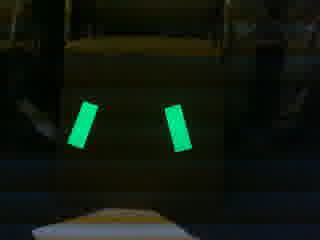target: (67, 101, 197, 156)
